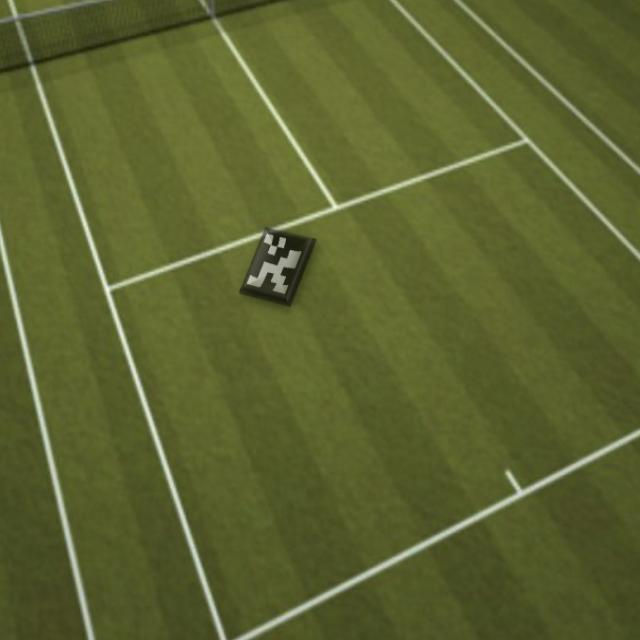marker: (236, 220, 326, 316)
